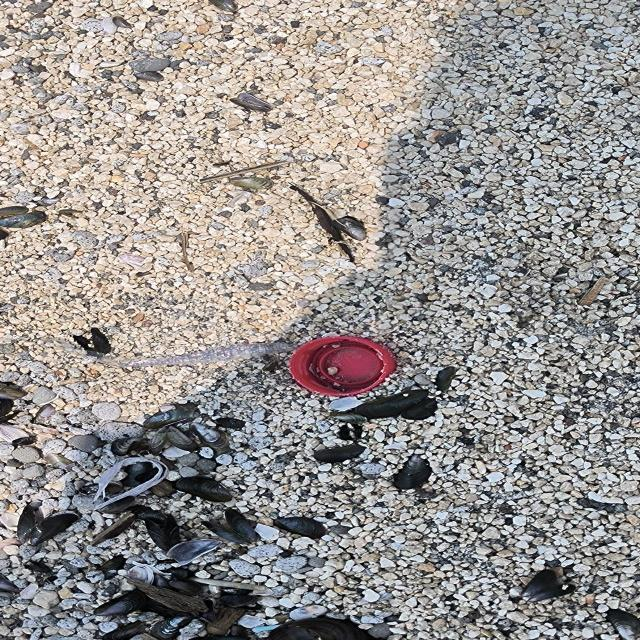plastic_waste: (287, 336, 397, 396)
